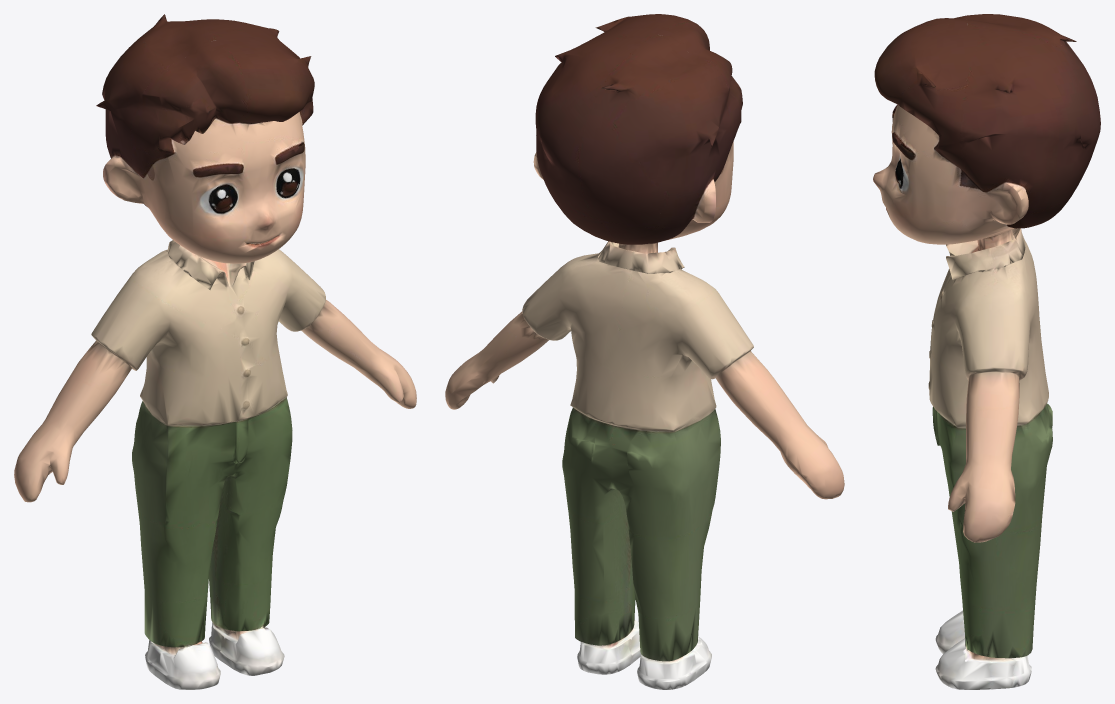
File: char_namja_jubu_base.glb
The picture shows the model from 3 angles, left to right: view 1: azimuth 30°, elevation 25°; view 2: azimuth 150°, elevation 25°; view 3: azimuth 270°, elevation 25°; orthographic projection.
Size of the model in its own units: 1.1 by 1.7 by 0.5533.
Materials: 1 (1 with a texture image).
